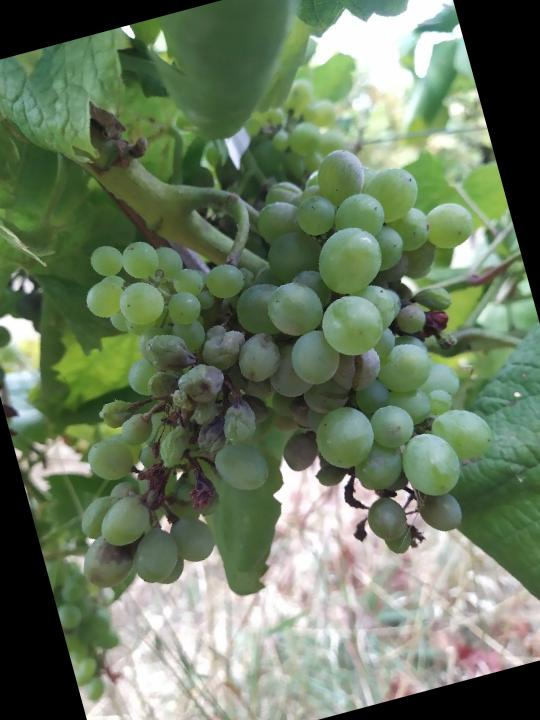grape: (0, 119, 540, 640)
